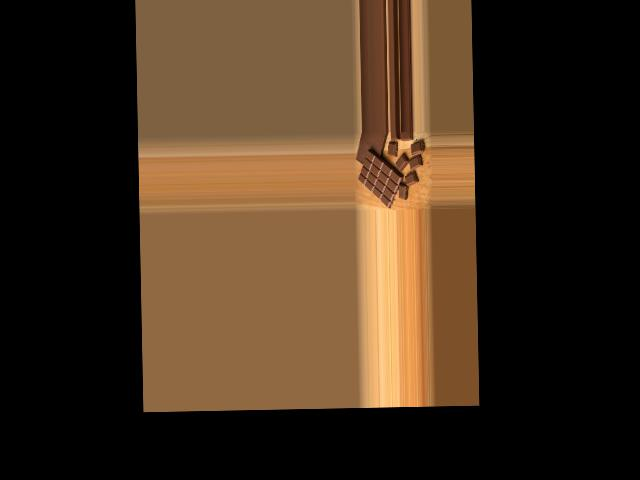chocolate: (357, 148, 406, 207)
